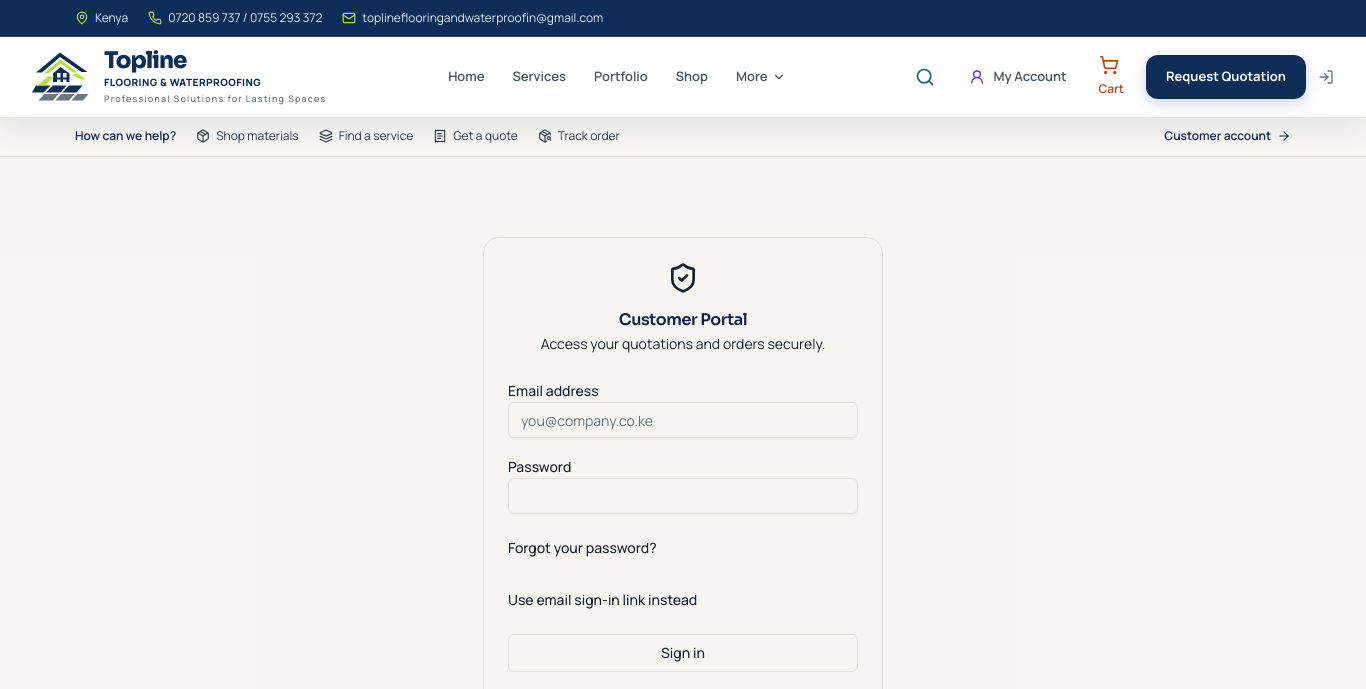
Scenario: customer registration and verification journey › signing in before verifying shows a clear message and offers a resend
The width and height of the screenshot is (1366, 689).
Later steps or results of the test are not shown.
In the field labelled "Email address": [683, 420] box [508,402,858,438], type "pending@example.org"
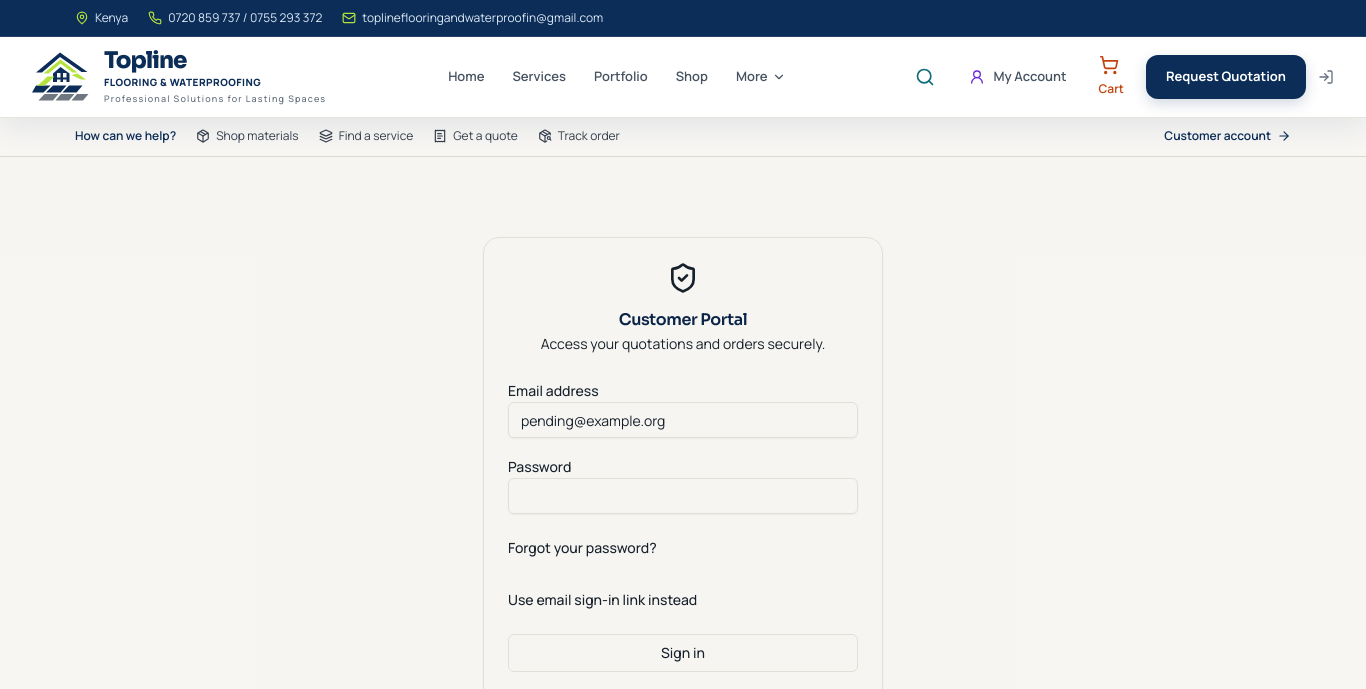
In the password field labelled "Password": [683, 496] box [508,478,858,514], type "whatever123"
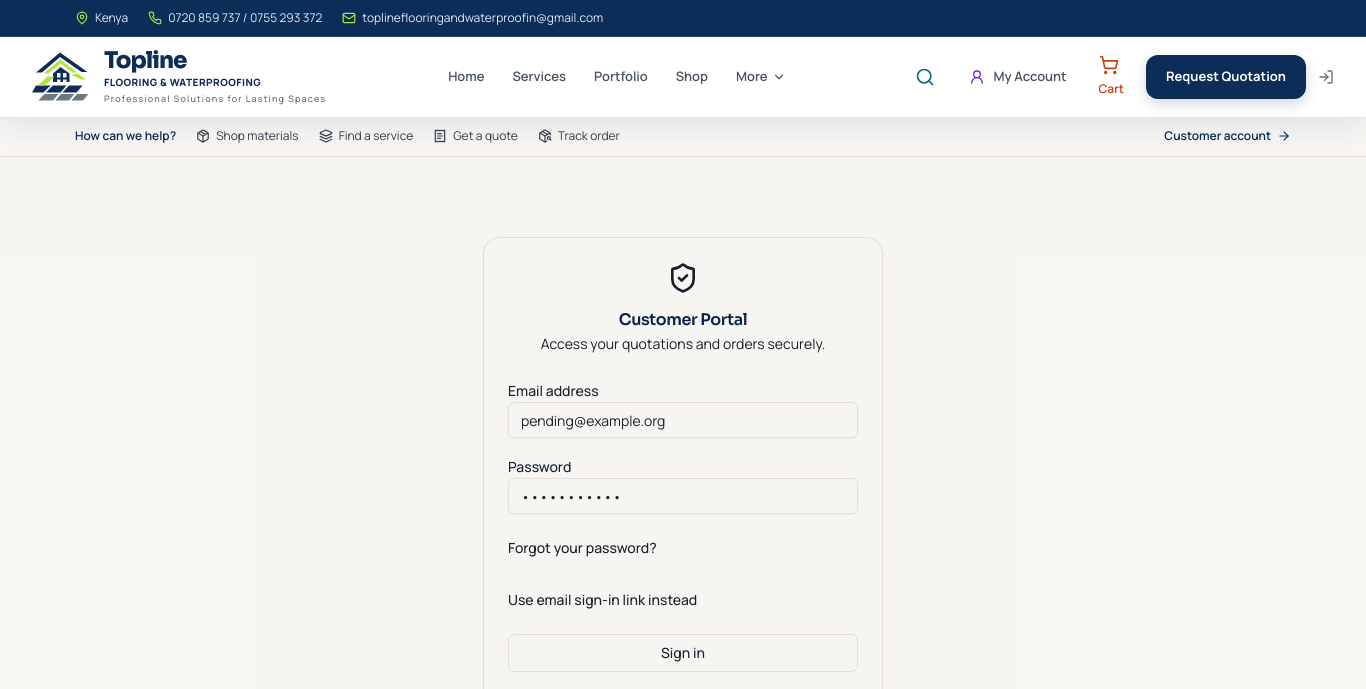
Click the button "Sign in": [683, 653] box [508,634,858,672]
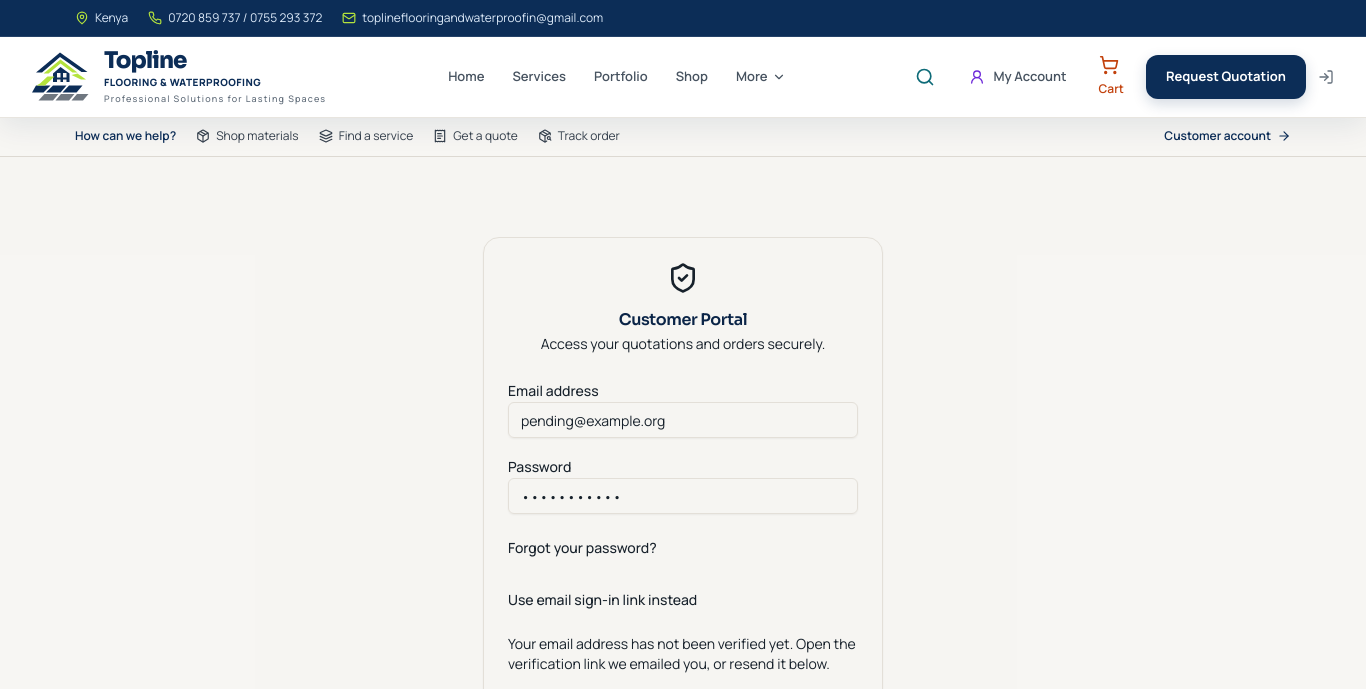
Check: the text "has not been verified yet" is shown, box [508,634,856,673]
